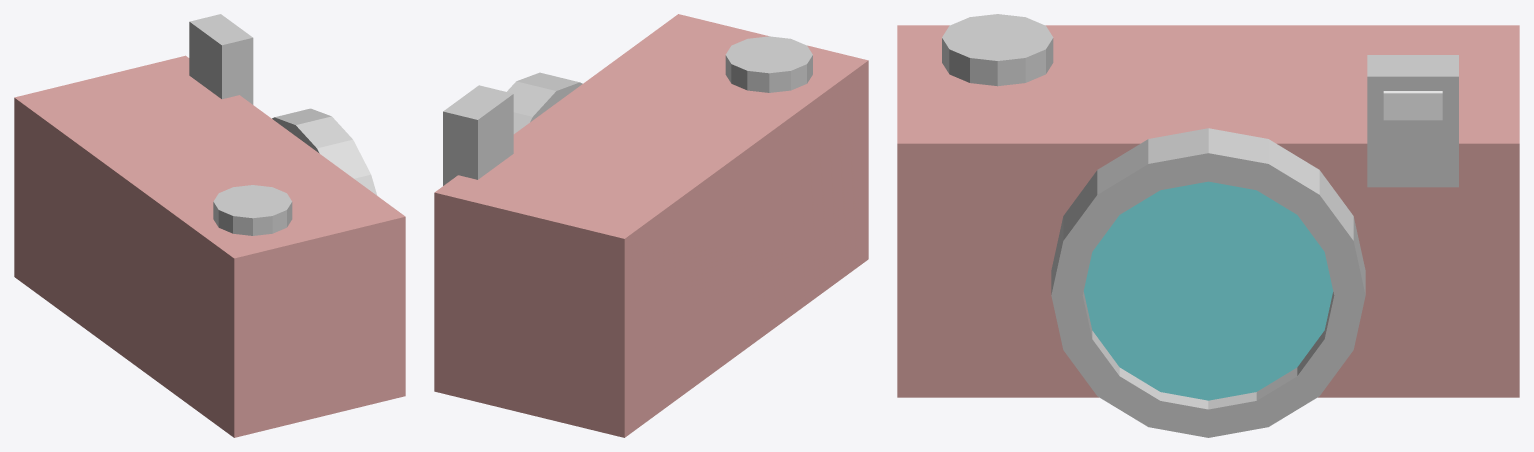
Rendered from camera_01.fbx.
The picture shows the model from 3 angles, left to right: view 1: azimuth 30°, elevation 25°; view 2: azimuth 150°, elevation 25°; view 3: azimuth 270°, elevation 25°; orthographic projection. The views are drawn at different scales.
Visible parts, largest first — view 1: Camera; view 2: Camera; view 3: Camera.
Boxes of the visible parts, <box> form: Camera: <box>14,14,405,437</box>; Camera: <box>434,14,868,437</box>; Camera: <box>897,14,1519,437</box>.
Bounding box in the file's own units: 45.69 × 51.39 × 83.81.
